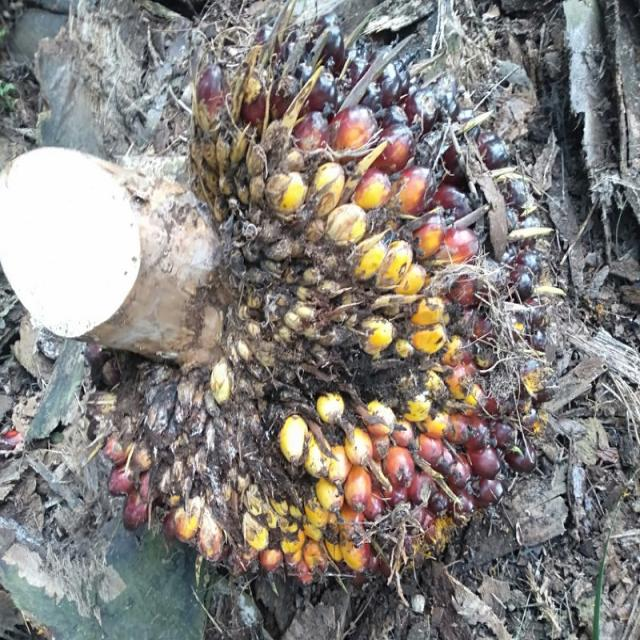fraksi 00: (59, 17, 575, 614)
